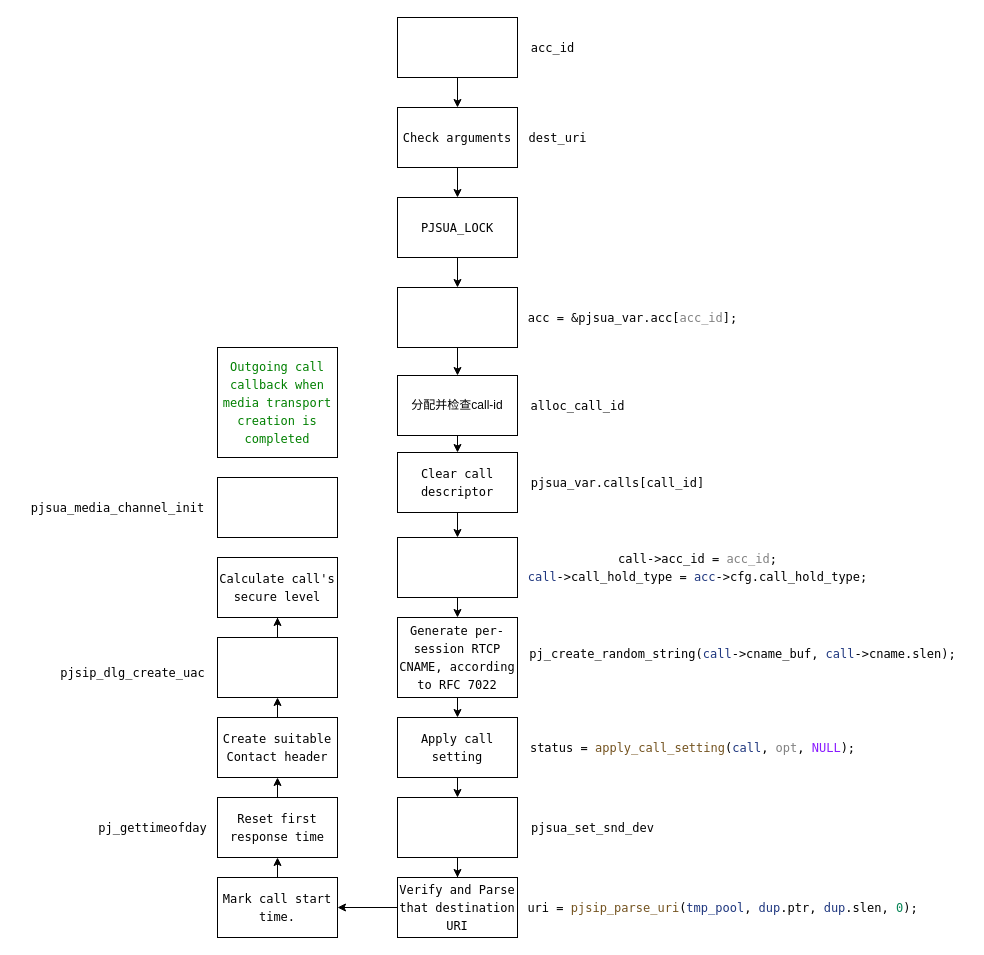
Image size: 984x955. Some labels were removed from this diagram. Here are the shapes that lost their labels. From the top down, the centre of each, then its label:
point (457, 47): Check that account is valid
point (457, 317): 获取并检查acc
point (277, 507): 初始化媒体流信道
point (457, 567): Associate session with account
point (277, 667): Create an UAC dialog
point (457, 827): 创建声音设备
